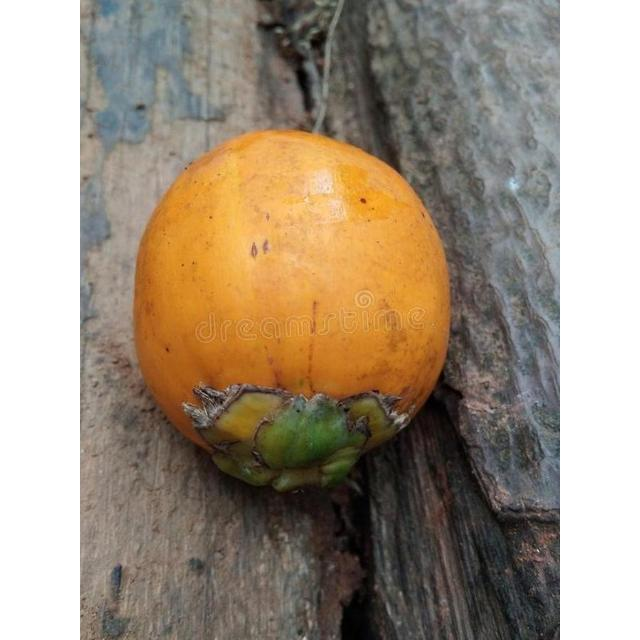good: (132, 129, 451, 496)
